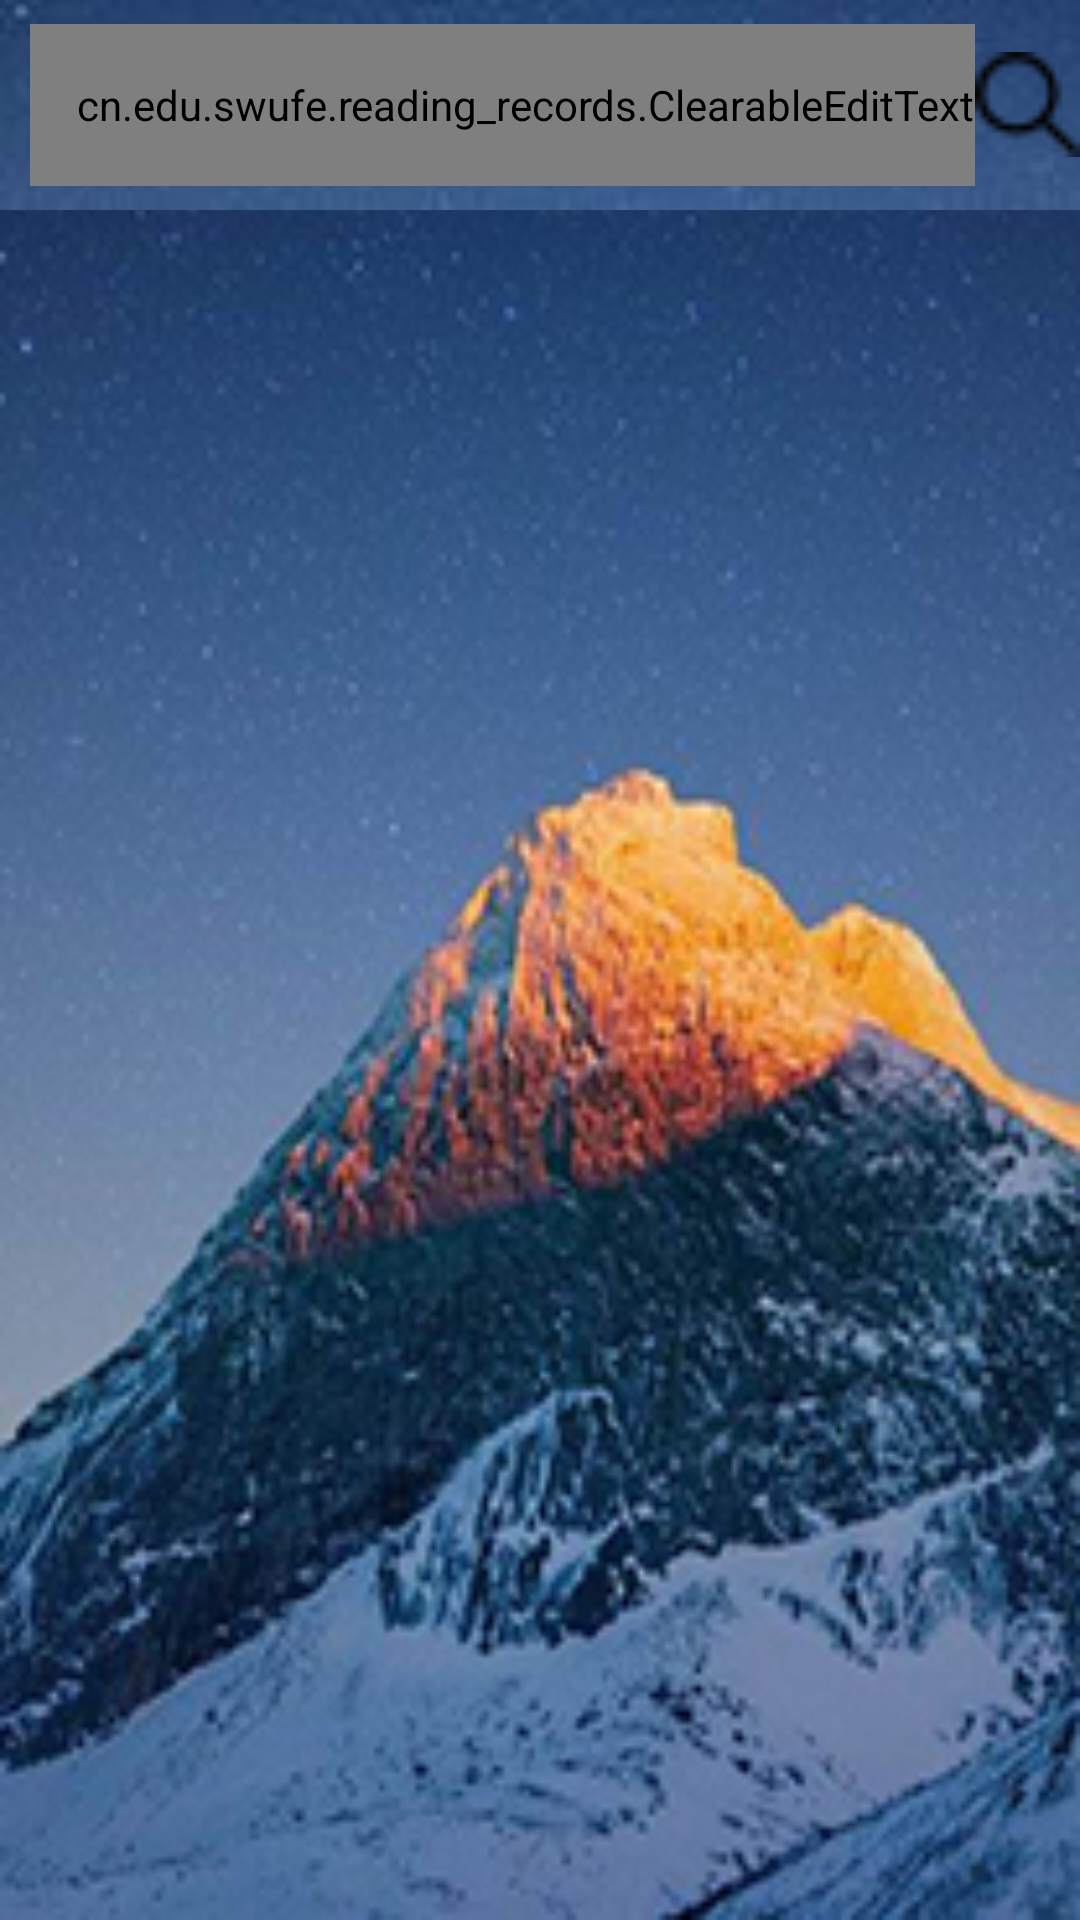

Named icons in this screenshot (1080 × 1920) and their centers, (x=x, y=y):
search: (x=1027, y=104)
